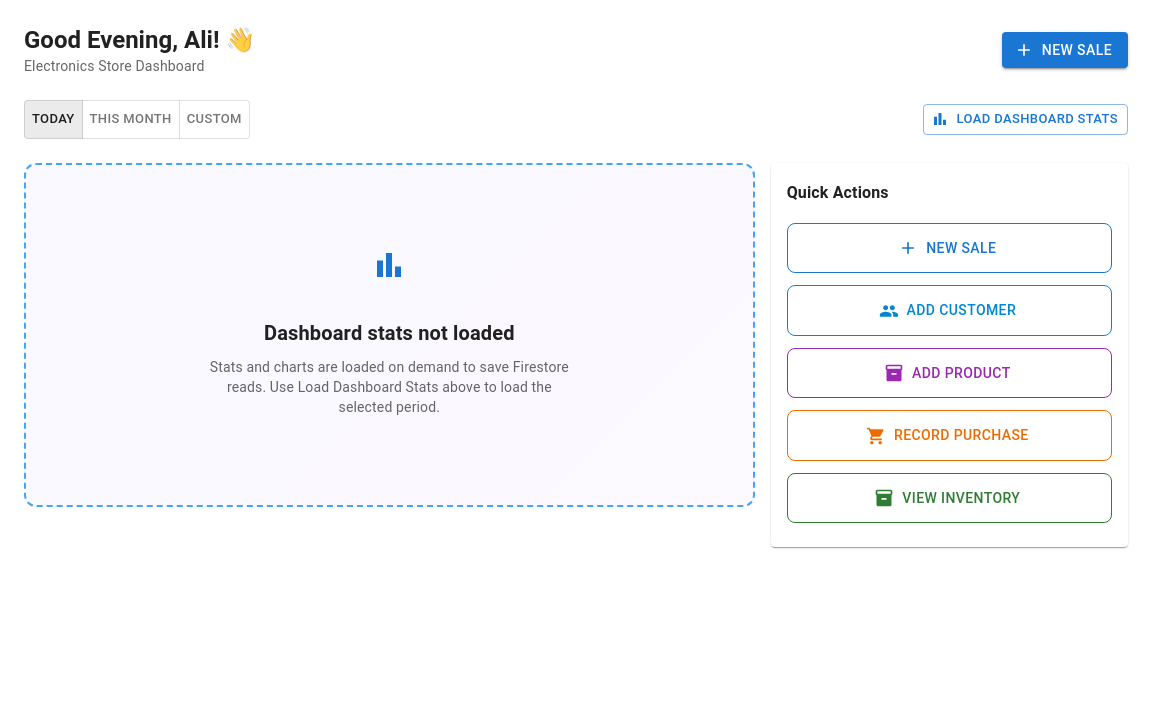
it: an aggregate failure is visible and Load permits retry
The image size is (1152, 707).
Click the button "Load Dashboard Stats" at (1025, 119), box [922,104,1128,135]
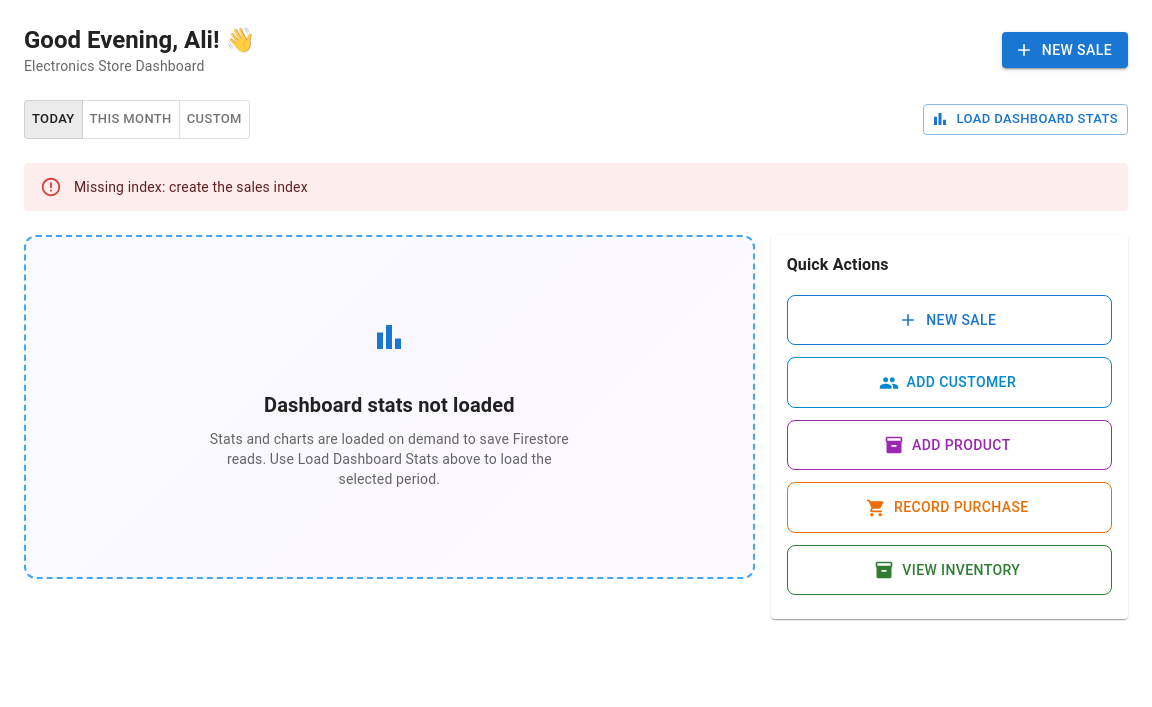
Now the message "Missing index: create the sales index" is shown, box [24,163,1128,211]
Click the button "Load Dashboard Stats" at (1025, 119), box [922,104,1128,135]
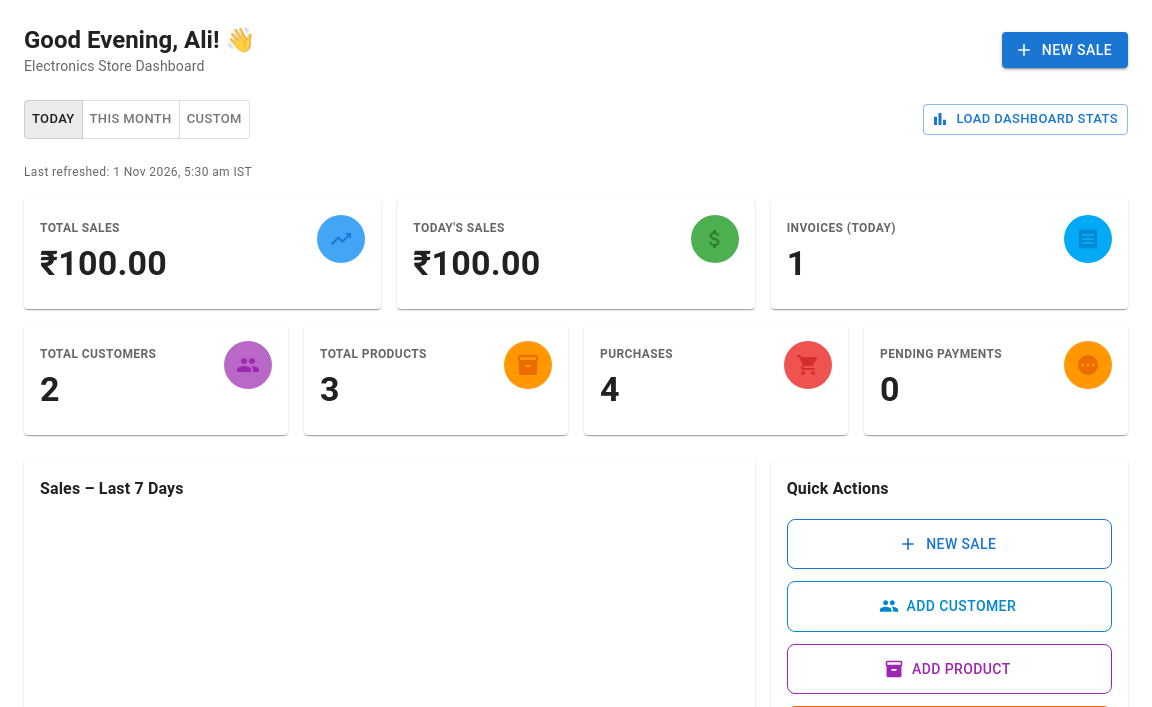
Now the message "Missing index: create the sales index" is gone
Now the text "Last refreshed" is shown, box [24,165,113,179]
